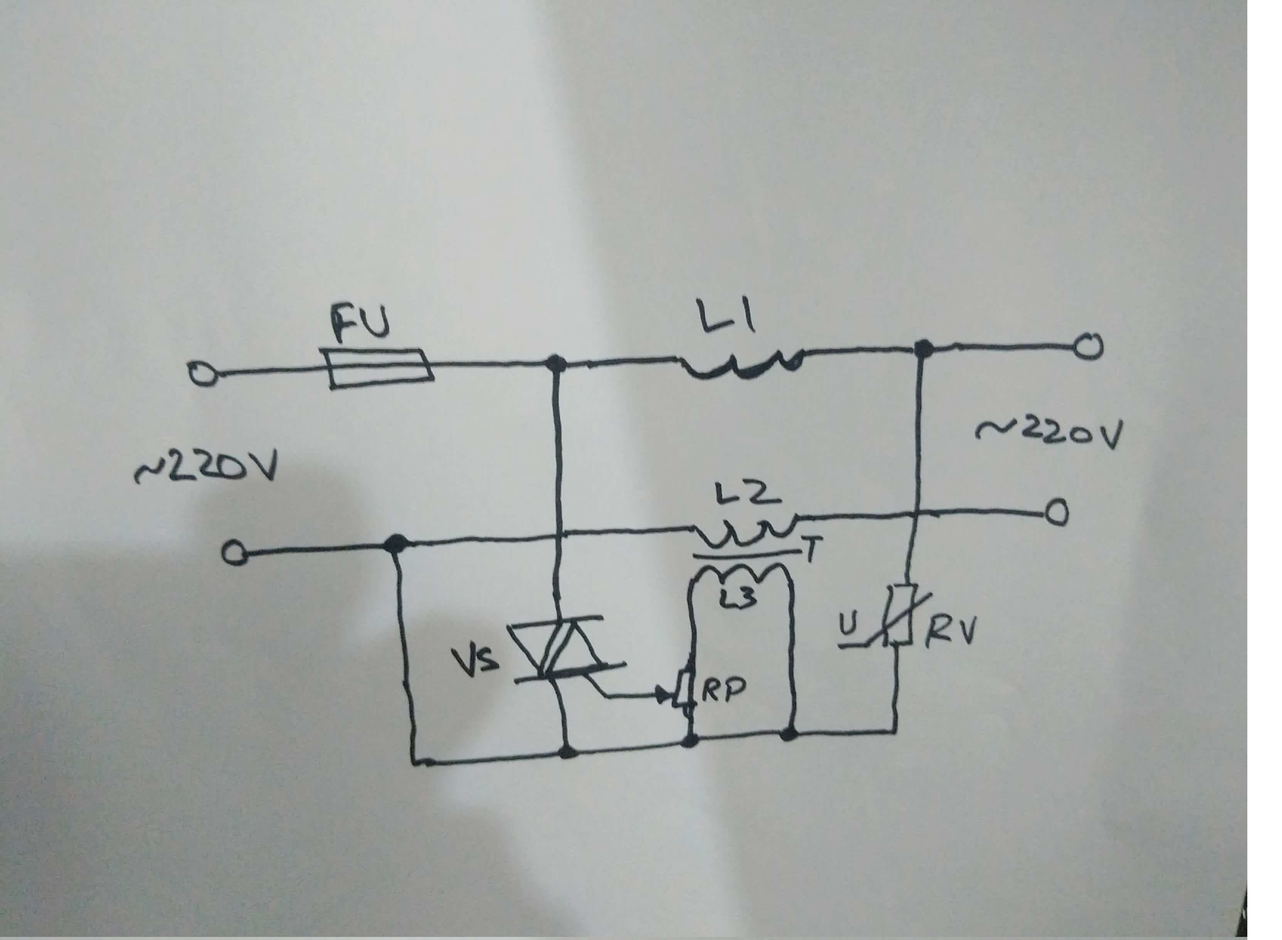crossover: (903, 499, 930, 528), (547, 519, 573, 548)
fuse: (316, 342, 437, 392)
inductor: (673, 345, 810, 384), (689, 512, 801, 551), (688, 562, 799, 586)
junction: (542, 351, 569, 378), (382, 530, 409, 557), (402, 748, 429, 775), (555, 742, 582, 769), (675, 728, 702, 755), (775, 720, 802, 747), (883, 722, 910, 749), (910, 335, 937, 362)
magnetic: (688, 547, 803, 561)
resistor.adjustable: (652, 660, 699, 715)
terminal: (186, 357, 232, 393), (216, 534, 262, 569), (1035, 495, 1072, 530), (1070, 329, 1107, 363)
text: (973, 410, 1124, 455), (130, 443, 280, 487), (692, 292, 759, 334), (328, 300, 390, 344), (448, 639, 501, 680), (923, 611, 978, 648), (712, 478, 784, 506), (701, 674, 748, 704), (718, 584, 762, 612), (798, 532, 824, 567)
transformer: (685, 511, 805, 588)
triac: (504, 611, 633, 703)
varistor: (837, 580, 933, 651)
